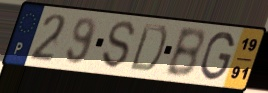2: (27, 13, 67, 63)
9: (65, 16, 97, 67)
B: (162, 28, 205, 80)
D: (127, 21, 169, 74)
G: (199, 30, 236, 82)
S: (100, 20, 137, 72)
